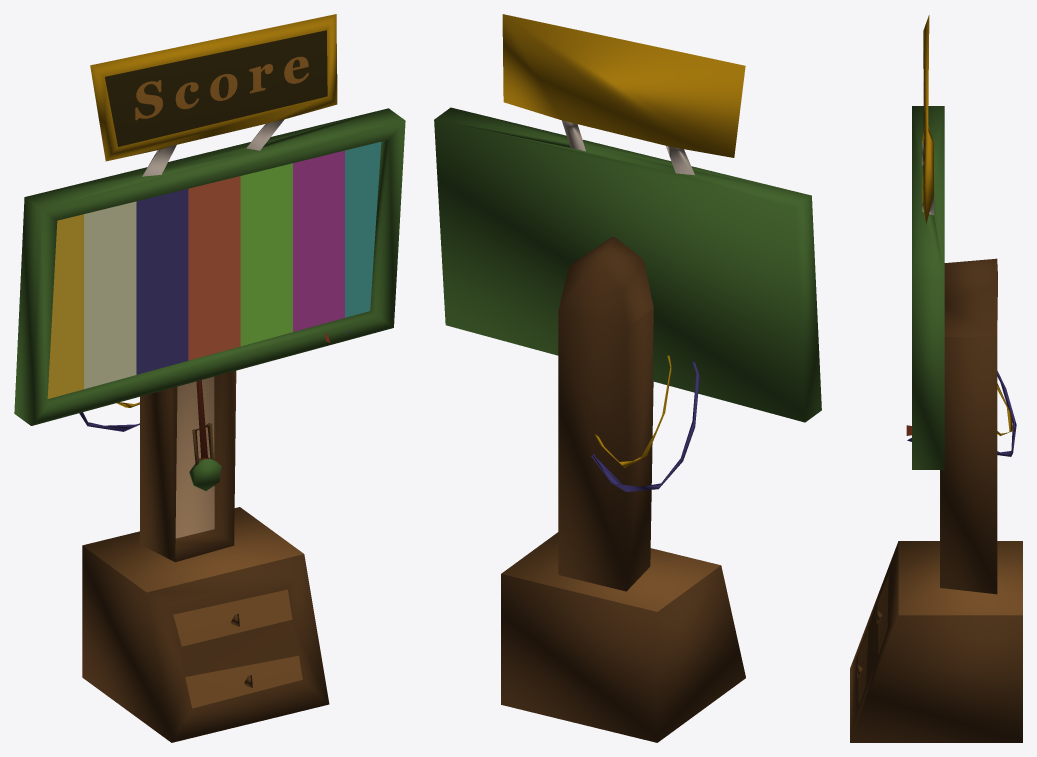
Rendered from Score Board.fbx.
3 renders of one model, left to right at view 1: azimuth 30°, elevation 25°; view 2: azimuth 150°, elevation 25°; view 3: azimuth 270°, elevation 25°, orthographic. The views are drawn at different scales.
Parts seen in each view (by area): view 1: Score Board Base, Score Board Monitor, Score Board Pendulum; view 2: Score Board Base; view 3: Score Board Base.
Part boxes in pixels (bbox=[...]): Score Board Base: bbox=[14, 14, 405, 742]; Score Board Monitor: bbox=[47, 142, 381, 398]; Score Board Pendulum: bbox=[189, 380, 221, 490]; Score Board Base: bbox=[434, 14, 821, 742]; Score Board Base: bbox=[850, 15, 1022, 742].
Size of the model in its own units: 380 by 638 by 157.
